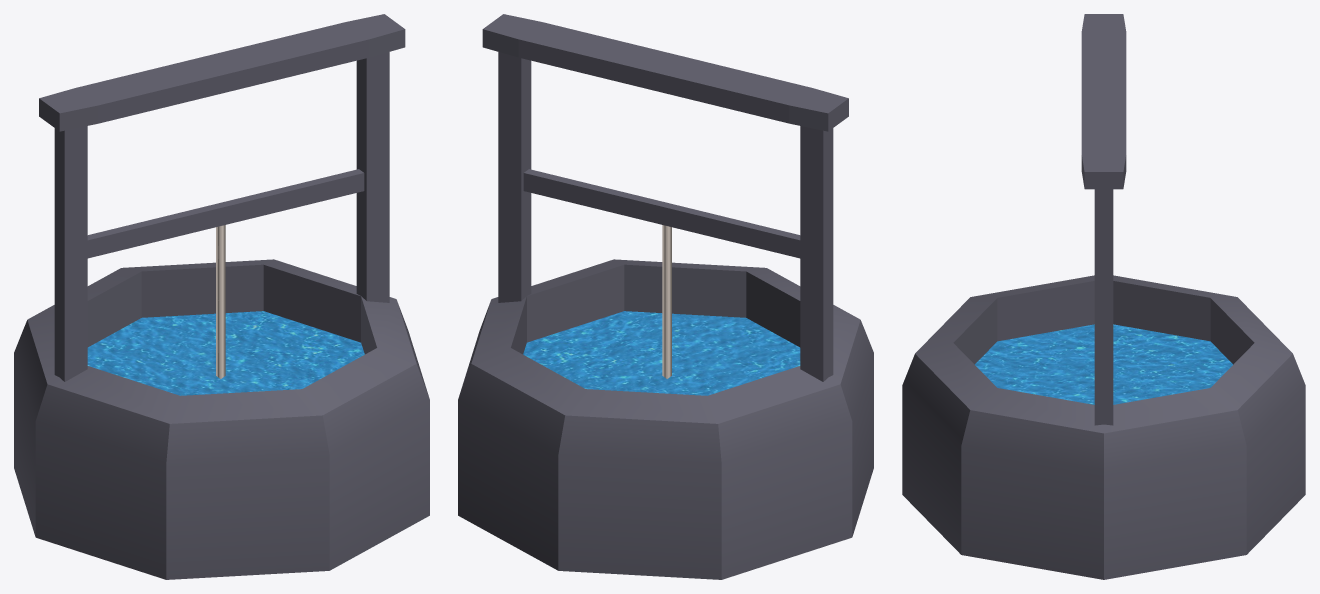
Rendered from well.glb.
3 renders of one model, left to right at view 1: azimuth 30°, elevation 25°; view 2: azimuth 150°, elevation 25°; view 3: azimuth 270°, elevation 25°, orthographic. The views are drawn at different scales.
Visible parts, largest first — view 1: Well; view 2: Well; view 3: Well.
Boxes of the visible parts, x1=… form: Well: x1=14, y1=14, x2=429, y2=579; Well: x1=458, y1=14, x2=873, y2=579; Well: x1=902, y1=14, x2=1305, y2=579.
Size of the model in its own units: 214 by 235 by 214.
3 materials, 3 textured.
